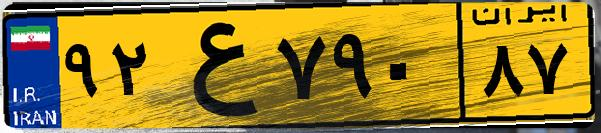0: (385, 28, 445, 110)
2: (110, 28, 158, 98)
7: (270, 28, 330, 110), (525, 38, 570, 115)
8: (475, 38, 525, 113)
9: (330, 28, 385, 110), (57, 26, 110, 100)
ع: (158, 12, 270, 120)
